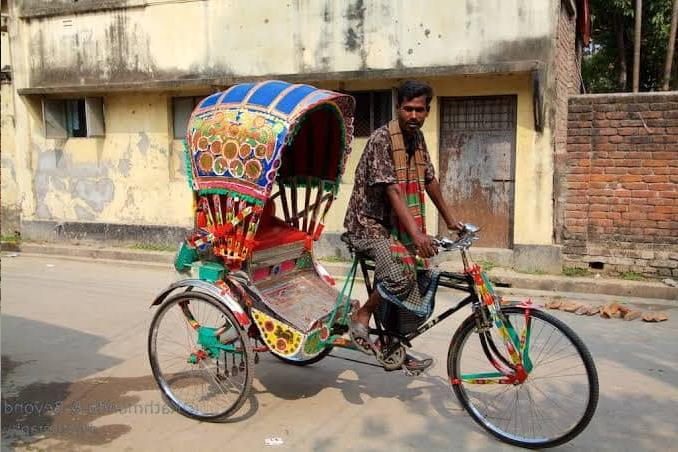Rickshaw: (157, 76, 596, 397)
